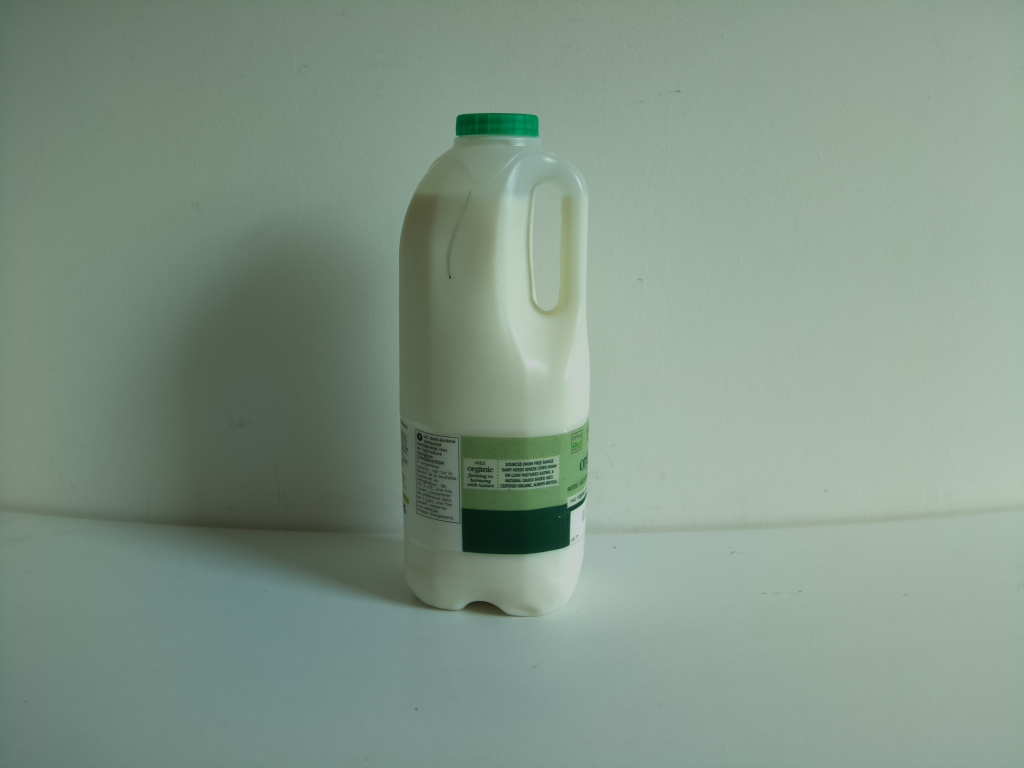milk: (394, 110, 596, 617)
